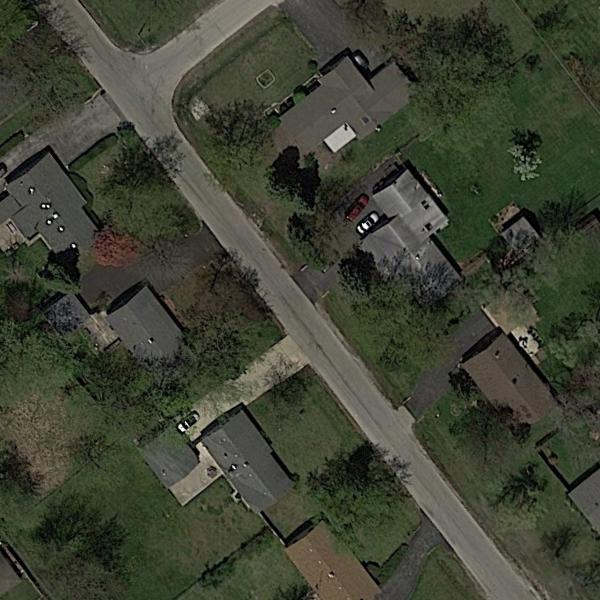Buildings: (297, 67, 404, 152), (11, 162, 88, 262), (374, 177, 450, 278), (205, 413, 294, 499), (286, 528, 378, 600), (465, 345, 542, 419), (105, 302, 176, 352), (159, 432, 196, 490), (571, 471, 600, 528), (503, 215, 540, 252)
